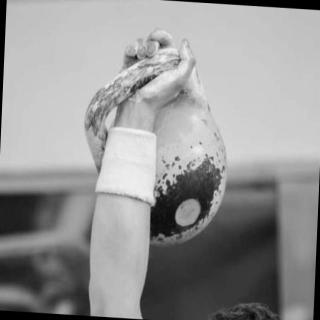kettlebell: (71, 36, 247, 254)
